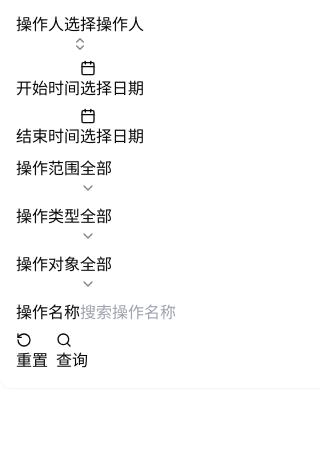
Test: LogFilterPanel › should update type filter when type select changes
Click the dropdown labelled "全部" next to "操作类型": (96, 224) [80,204,112,244]
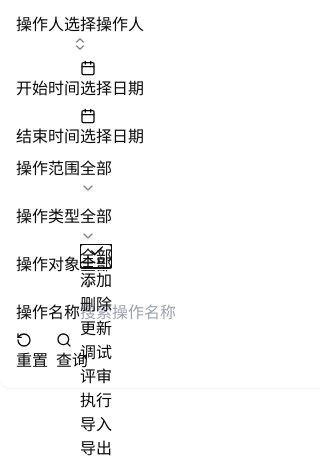
Expected: the option "添加" is shown, [80,268,112,292]
